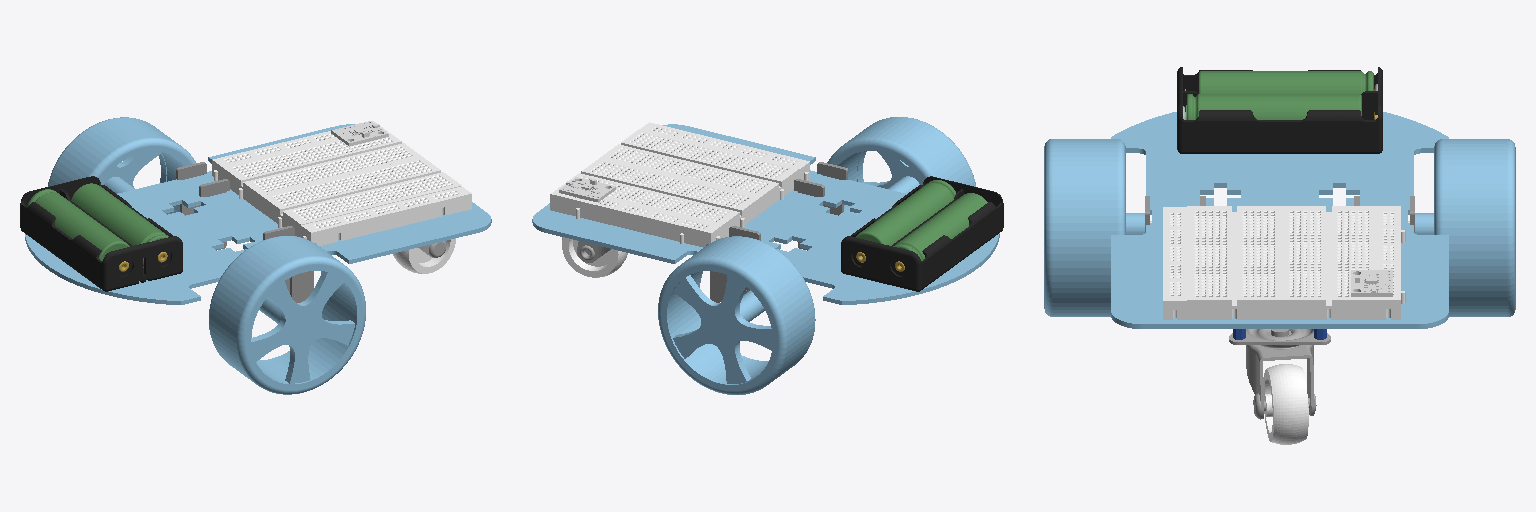
The robot description file, URDF, robot "bot":
<?xml version="1.0" ?>
<!-- Generated using onshape-to-robot -->
<!-- Onshape https://cad.onshape.com/documents/292c33a7f0f854a3cdb21f44/w/3cfe75fb330dfc627e8355b6/e/a29efea0b989aa0e985d95df -->
<robot name="bot">
  <!-- Link chassis -->
  <link name="base_link"/>
  <joint name="base_joint" type="fixed">
    <parent link="base_link"/>
    <child link="chassis"/>
  </joint>
<link name="chassis">
    <inertial>
      <origin xyz="0.0129417 0.000124462 -0.00104202" rpy="0 0 0"/>
      <mass value="0.339243"/>
      <inertia ixx="0.00034847" ixy="1.51262e-07" ixz="9.45548e-05" iyy="0.00106249" iyz="-4.20985e-07" izz="0.0013292"/>
    </inertial>
    <!-- Part spacer -->
    <visual>
      <origin xyz="0.136796 -0.0357567 -0.00100069" rpy="0 -0 0"/>
      <geometry>
        <mesh filename="package://bot_description/meshes/spacer.stl"/>
      </geometry>
      <material name="spacer_material">
        <color rgba="0.231373 0.380392 0.705882 1"/>
      </material>
    </visual>
    <!-- Part mpu6050 -->
    <visual>
      <origin xyz="0.0979786 0.033993 0.0089771" rpy="0 -0 -3.14159"/>
      <geometry>
        <mesh filename="package://bot_description/meshes/mpu6050.stl"/>
      </geometry>
      <material name="mpu6050_material">
        <color rgba="0.921569 0.921569 0.921569 1"/>
      </material>
    </visual>
    <!-- Part tt_motor_3777_v10 -->
    <visual>
      <origin xyz="-0.00036815 0.0387736 -0.0135492" rpy="3.14159 1.5708 0"/>
      <geometry>
        <mesh filename="package://bot_description/meshes/tt_motor_3777_v10.stl"/>
      </geometry>
      <material name="tt_motor_3777_v10_material">
        <color rgba="1 0.976471 0.521569 1"/>
      </material>
    </visual>
    <!-- Part spacer_2 -->
    <visual>
      <origin xyz="0.136796 -0.00575673 -0.00100069" rpy="0 -0 0"/>
      <geometry>
        <mesh filename="package://bot_description/meshes/spacer.stl"/>
      </geometry>
      <material name="spacer_2_material">
        <color rgba="0.231373 0.380392 0.705882 1"/>
      </material>
    </visual>
    <!-- Part tt_motor_3777_v10_2 -->
    <visual>
      <origin xyz="-0.00036815 -0.0388264 -0.0135492" rpy="0 -1.5708 0"/>
      <geometry>
        <mesh filename="package://bot_description/meshes/tt_motor_3777_v10__2.stl"/>
      </geometry>
      <material name="tt_motor_3777_v10_2_material">
        <color rgba="1 0.976471 0.521569 1"/>
      </material>
    </visual>
    <!-- Part tt_motor_3777_v10_3 -->
    <visual>
      <origin xyz="-0.00036815 0.0387736 -0.0135492" rpy="3.14159 1.5708 0"/>
      <geometry>
        <mesh filename="package://bot_description/meshes/tt_motor_3777_v10__3.stl"/>
      </geometry>
      <material name="tt_motor_3777_v10_3_material">
        <color rgba="0.960784 0.960784 0.964706 1"/>
      </material>
    </visual>
    <!-- Part tt_motor_3777_v10_4 -->
    <visual>
      <origin xyz="-0.00036815 0.0387736 -0.0135492" rpy="3.14159 1.5708 0"/>
      <geometry>
        <mesh filename="package://bot_description/meshes/tt_motor_3777_v10__4.stl"/>
      </geometry>
      <material name="tt_motor_3777_v10_4_material">
        <color rgba="0.960784 0.960784 0.964706 1"/>
      </material>
    </visual>
    <!-- Part chassis -->
    <visual>
      <origin xyz="-9.4875e-08 -2.63931e-05 0.000999305" rpy="0 -0 0"/>
      <geometry>
        <mesh filename="package://bot_description/meshes/chassis.stl"/>
      </geometry>
      <material name="chassis_material">
        <color rgba="0.615686 0.811765 0.929412 1"/>
      </material>
    </visual>
    <collision>
      <origin xyz="-9.4875e-08 -2.63931e-05 0.000999305" rpy="0 0 0"/>
      <geometry>
        <box size="0.19 0.10 0.04"/>
      </geometry>
    </collision>
    <!-- Part motor_holders -->
    <visual>
      <origin xyz="0.0429817 0.0500736 -0.0416742" rpy="-0 0 0"/>
      <geometry>
        <mesh filename="package://bot_description/meshes/motor_holders.stl"/>
      </geometry>
      <material name="motor_holders_material">
        <color rgba="0.647059 0.647059 0.647059 1"/>
      </material>
    </visual>
    <!-- Part tt_motor_3777_v10_5 -->
    <visual>
      <origin xyz="-0.00036815 -0.0388264 -0.0135492" rpy="0 -1.5708 0"/>
      <geometry>
        <mesh filename="package://bot_description/meshes/tt_motor_3777_v10__4.stl"/>
      </geometry>
      <material name="tt_motor_3777_v10_5_material">
        <color rgba="0.960784 0.960784 0.964706 1"/>
      </material>
    </visual>
    <!-- Part motor_holders_2 -->
    <visual>
      <origin xyz="0.0429817 -0.0275264 -0.0416742" rpy="0 -0 0"/>
      <geometry>
        <mesh filename="package://bot_description/meshes/motor_holders.stl"/>
      </geometry>
      <material name="motor_holders_2_material">
        <color rgba="0.647059 0.647059 0.647059 1"/>
      </material>
    </visual>
    <!-- Part motor_holders_3 -->
    <visual>
      <origin xyz="0.0429817 0.0294736 -0.0416742" rpy="0 -0 0"/>
      <geometry>
        <mesh filename="package://bot_description/meshes/motor_holders.stl"/>
      </geometry>
      <material name="motor_holders_3_material">
        <color rgba="0.647059 0.647059 0.647059 1"/>
      </material>
    </visual>
    <!-- Part tt_motor_3777_v10_6 -->
    <visual>
      <origin xyz="-0.00036815 -0.0388264 -0.0135492" rpy="0 -1.5708 0"/>
      <geometry>
        <mesh filename="package://bot_description/meshes/tt_motor_3777_v10__5.stl"/>
      </geometry>
      <material name="tt_motor_3777_v10_6_material">
        <color rgba="0.627451 0.627451 0.627451 1"/>
      </material>
    </visual>
    <!-- Part tt_motor_3777_v10_7 -->
    <visual>
      <origin xyz="-0.00036815 -0.0388264 -0.0135492" rpy="0 -1.5708 0"/>
      <geometry>
        <mesh filename="package://bot_description/meshes/tt_motor_3777_v10__3.stl"/>
      </geometry>
      <material name="tt_motor_3777_v10_7_material">
        <color rgba="0.960784 0.960784 0.964706 1"/>
      </material>
    </visual>
    <!-- Part tt_motor_3777_v10_8 -->
    <visual>
      <origin xyz="-0.00036815 0.0387736 -0.0135492" rpy="3.14159 1.5708 0"/>
      <geometry>
        <mesh filename="package://bot_description/meshes/tt_motor_3777_v10__2.stl"/>
      </geometry>
      <material name="tt_motor_3777_v10_8_material">
        <color rgba="1 0.976471 0.521569 1"/>
      </material>
    </visual>
    <!-- Part caster_40mm_swivel_plate_01 -->
    <visual>
      <origin xyz="0.0812499 -2.63931e-05 -0.0322507" rpy="0 -0 -1.5708"/>
      <geometry>
        <mesh filename="package://bot_description/meshes/caster_40mm_swivel_plate_01.stl"/>
      </geometry>
      <material name="caster_40mm_swivel_plate_01_material">
        <color rgba="0.705882 0.705882 0.705882 1"/>
      </material>
    </visual>
    <!-- Part tt_motor_3777_v10_9 -->
    <visual>
      <origin xyz="-0.00036815 0.0387736 -0.0135492" rpy="3.14159 1.5708 0"/>
      <geometry>
        <mesh filename="package://bot_description/meshes/tt_motor_3777_v10__6.stl"/>
      </geometry>
      <material name="tt_motor_3777_v10_9_material">
        <color rgba="0.0980392 0.0980392 0.0980392 1"/>
      </material>
    </visual>
    <!-- Part motor_holders_4 -->
    <visual>
      <origin xyz="0.0429817 -0.0481264 -0.0416742" rpy="-0 -0 0"/>
      <geometry>
        <mesh filename="package://bot_description/meshes/motor_holders.stl"/>
      </geometry>
      <material name="motor_holders_4_material">
        <color rgba="0.647059 0.647059 0.647059 1"/>
      </material>
    </visual>
    <!-- Part tt_motor_3777_v10_10 -->
    <visual>
      <origin xyz="-0.00036815 0.0387736 -0.0135492" rpy="3.14159 1.5708 0"/>
      <geometry>
        <mesh filename="package://bot_description/meshes/tt_motor_3777_v10__7.stl"/>
      </geometry>
      <material name="tt_motor_3777_v10_10_material">
        <color rgba="0.627451 0.627451 0.627451 1"/>
      </material>
    </visual>
    <!-- Part tt_motor_3777_v10_11 -->
    <visual>
      <origin xyz="-0.00036815 0.0387736 -0.0135492" rpy="3.14159 1.5708 0"/>
      <geometry>
        <mesh filename="package://bot_description/meshes/tt_motor_3777_v10__5.stl"/>
      </geometry>
      <material name="tt_motor_3777_v10_11_material">
        <color rgba="0.627451 0.627451 0.627451 1"/>
      </material>
    </visual>
    <!-- Part spacer_3 -->
    <visual>
      <origin xyz="0.112796 -0.0357567 -0.00100069" rpy="0 -0 0"/>
      <geometry>
        <mesh filename="package://bot_description/meshes/spacer.stl"/>
      </geometry>
      <material name="spacer_3_material">
        <color rgba="0.231373 0.380392 0.705882 1"/>
      </material>
    </visual>
    <!-- Part tt_motor_3777_v10_12 -->
    <visual>
      <origin xyz="-0.00036815 -0.0388264 -0.0135492" rpy="0 -1.5708 0"/>
      <geometry>
        <mesh filename="package://bot_description/meshes/tt_motor_3777_v10.stl"/>
      </geometry>
      <material name="tt_motor_3777_v10_12_material">
        <color rgba="1 0.976471 0.521569 1"/>
      </material>
    </visual>
    <!-- Part tt_motor_3777_v10_13 -->
    <visual>
      <origin xyz="-0.00036815 -0.0388264 -0.0135492" rpy="0 -1.5708 0"/>
      <geometry>
        <mesh filename="package://bot_description/meshes/tt_motor_3777_v10__7.stl"/>
      </geometry>
      <material name="tt_motor_3777_v10_13_material">
        <color rgba="0.627451 0.627451 0.627451 1"/>
      </material>
    </visual>
    <!-- Part tt_motor_3777_v10_14 -->
    <visual>
      <origin xyz="-0.00036815 -0.0388264 -0.0135492" rpy="0 -1.5708 0"/>
      <geometry>
        <mesh filename="package://bot_description/meshes/tt_motor_3777_v10__6.stl"/>
      </geometry>
      <material name="tt_motor_3777_v10_14_material">
        <color rgba="0.0980392 0.0980392 0.0980392 1"/>
      </material>
    </visual>
    <!-- Part spacer_4 -->
    <visual>
      <origin xyz="0.112796 -0.00575673 -0.00100069" rpy="0 -0 0"/>
      <geometry>
        <mesh filename="package://bot_description/meshes/spacer.stl"/>
      </geometry>
      <material name="spacer_4_material">
        <color rgba="0.231373 0.380392 0.705882 1"/>
      </material>
    </visual>
    <!-- Part main_half_size_board -->
    <visual>
      <origin xyz="0.11075 0.0356236 0.000999305" rpy="1.5708 0 -1.5708"/>
      <geometry>
        <mesh filename="package://bot_description/meshes/main_half_size_board.stl"/>
      </geometry>
      <material name="main_half_size_board_material">
        <color rgba="1 1 1 1"/>
      </material>
    </visual>
    <!-- Part half_size_side_rail -->
    <visual>
      <origin xyz="0.0282799 -0.0432849 0.000635827" rpy="0 0 0"/>
      <geometry>
        <mesh filename="package://bot_description/meshes/half_size_side_rail.stl"/>
      </geometry>
      <material name="half_size_side_rail_material">
        <color rgba="1 1 1 1"/>
      </material>
    </visual>
    <!-- Part half_size_side_rail_2 -->
    <visual>
      <origin xyz="0.0282499 0.0356236 0.000999305" rpy="0 0 0"/>
      <geometry>
        <mesh filename="package://bot_description/meshes/half_size_side_rail.stl"/>
      </geometry>
      <material name="half_size_side_rail_2_material">
        <color rgba="1 1 1 1"/>
      </material>
    </visual>
    <!-- Part main_half_size_board_2 -->
    <visual>
      <origin xyz="0.110804 0.000622607 0.000989475" rpy="1.5708 0 -1.5708"/>
      <geometry>
        <mesh filename="package://bot_description/meshes/main_half_size_board.stl"/>
      </geometry>
      <material name="main_half_size_board_2_material">
        <color rgba="1 1 1 1"/>
      </material>
    </visual>
    <!-- Part remache_v1_0 -->
    <visual>
      <origin xyz="-0.0441788 -0.0360268 0.0110493" rpy="-0.6866 -0 1.5708"/>
      <geometry>
        <mesh filename="package://bot_description/meshes/remache_v1_0.stl"/>
      </geometry>
      <material name="remache_v1_0_material">
        <color rgba="0.8 0.666667 0.321569 1"/>
      </material>
    </visual>
    <!-- Part remache_v1_0_2 -->
    <visual>
      <origin xyz="-0.0640288 -0.0360268 0.0110493" rpy="-0.6866 -0 1.5708"/>
      <geometry>
        <mesh filename="package://bot_description/meshes/remache_v1_0.stl"/>
      </geometry>
      <material name="remache_v1_0_2_material">
        <color rgba="0.8 0.666667 0.321569 1"/>
      </material>
    </visual>
    <!-- Part contacto_plano_v1_0 -->
    <visual>
      <origin xyz="-0.0441788 -0.0360768 0.0110493" rpy="1.5708 -0.567108 -3.14159"/>
      <geometry>
        <mesh filename="package://bot_description/meshes/contacto_plano_v1_0.stl"/>
      </geometry>
      <material name="contacto_plano_v1_0_material">
        <color rgba="0.741176 0.776471 0.8 1"/>
      </material>
    </visual>
    <!-- Part porta_baterias_2x18650 -->
    <visual>
      <origin xyz="-0.0541038 2.31881e-05 0.000599305" rpy="0 -0 -1.5708"/>
      <geometry>
        <mesh filename="package://bot_description/meshes/porta_baterias_2x18650.stl"/>
      </geometry>
      <material name="porta_baterias_2x18650_material">
        <color rgba="0.2 0.2 0.2 1"/>
      </material>
    </visual>
    <!-- Part contacto_helice_v2_0 -->
    <visual>
      <origin xyz="-0.0640288 -0.0357268 0.0110493" rpy="-1.5708 -0.391796 0"/>
      <geometry>
        <mesh filename="package://bot_description/meshes/contacto_helice_v2_0.stl"/>
      </geometry>
      <material name="contacto_helice_v2_0_material">
        <color rgba="0.741176 0.776471 0.8 1"/>
      </material>
    </visual>
    <!-- Part contacto_plano_v1_0_2 -->
    <visual>
      <origin xyz="-0.0640288 0.0361232 0.0110493" rpy="-1.5708 -0.611892 -3.14159"/>
      <geometry>
        <mesh filename="package://bot_description/meshes/contacto_plano_v1_0.stl"/>
      </geometry>
      <material name="contacto_plano_v1_0_2_material">
        <color rgba="0.741176 0.776471 0.8 1"/>
      </material>
    </visual>
    <!-- Part bateria_18650 -->
    <visual>
      <origin xyz="-0.0640288 -0.0301768 0.0110493" rpy="-1.5708 0.448272 -0"/>
      <geometry>
        <mesh filename="package://bot_description/meshes/bateria_18650.stl"/>
      </geometry>
      <material name="bateria_18650_material">
        <color rgba="0.392157 0.6 0.392157 1"/>
      </material>
    </visual>
    <!-- Part remache_v1_0_3 -->
    <visual>
      <origin xyz="-0.0640288 0.0360732 0.0110493" rpy="-0.6866 0 1.5708"/>
      <geometry>
        <mesh filename="package://bot_description/meshes/remache_v1_0.stl"/>
      </geometry>
      <material name="remache_v1_0_3_material">
        <color rgba="0.8 0.666667 0.321569 1"/>
      </material>
    </visual>
    <!-- Part bateria_18650_2 -->
    <visual>
      <origin xyz="-0.0441788 0.0302232 0.0110493" rpy="-1.5708 -1.11651 -3.14159"/>
      <geometry>
        <mesh filename="package://bot_description/meshes/bateria_18650.stl"/>
      </geometry>
      <material name="bateria_18650_2_material">
        <color rgba="0.392157 0.6 0.392157 1"/>
      </material>
    </visual>
    <!-- Part contacto_helice_v2_0_2 -->
    <visual>
      <origin xyz="-0.0441788 0.0357732 0.0110493" rpy="1.5708 1.5708 0"/>
      <geometry>
        <mesh filename="package://bot_description/meshes/contacto_helice_v2_0.stl"/>
      </geometry>
      <material name="contacto_helice_v2_0_2_material">
        <color rgba="0.741176 0.776471 0.8 1"/>
      </material>
    </visual>
    <!-- Part remache_v1_0_4 -->
    <visual>
      <origin xyz="-0.0441788 0.0360732 0.0110493" rpy="-0.6866 -0 1.5708"/>
      <geometry>
        <mesh filename="package://bot_description/meshes/remache_v1_0.stl"/>
      </geometry>
      <material name="remache_v1_0_4_material">
        <color rgba="0.8 0.666667 0.321569 1"/>
      </material>
    </visual>
  </link>
  <!-- Frame imu_link (dummy link + fixed joint) -->
  <link name="imu_link">
    <origin xyz="0 0 0" rpy="0 -0 0"/>
    <inertial>
      <origin xyz="0 0 0" rpy="0 0 0"/>
      <mass value="1e-9"/>
      <inertia ixx="0" ixy="0" ixz="0" iyy="0" iyz="0" izz="0"/>
    </inertial>
  </link>
  <joint name="imu_link_frame" type="fixed">
    <origin xyz="0.0979786 0.033993 0.0089771" rpy="0 -0 0"/>
    <parent link="chassis"/>
    <child link="imu_link"/>
    <axis xyz="0 0 0"/>
  </joint>
  <!-- Link wheel -->
  <link name="wheel">
    <inertial>
      <origin xyz="0.000233615 -1.15321e-07 -0.0320156" rpy="0 0 0"/>
      <mass value="0.0449149"/>
      <inertia ixx="2.33428e-05" ixy="-7.5e-11" ixz="2.4132e-08" iyy="2.3342e-05" iyz="-4.4e-11" izz="3.25125e-05"/>
    </inertial>
    <!-- Part tt_motor_3777_v10_15 -->
    <visual>
      <origin xyz="0 -0 0" rpy="1.5708 -0 0"/>
      <geometry>
        <mesh filename="package://bot_description/meshes/tt_motor_3777_v10__8.stl"/>
      </geometry>
      <material name="tt_motor_3777_v10_15_material">
        <color rgba="0.964706 0.964706 0.952941 1"/>
      </material>
    </visual>
    <!-- Part wheel -->
    <visual>
      <origin xyz="0.00025 -0 -0.0484" rpy="1.5708 0 -1.5708"/>
      <geometry>
        <mesh filename="package://bot_description/meshes/wheel.stl"/>
      </geometry>
      <material name="wheel_material">
        <color rgba="0.615686 0.811765 0.929412 1"/>
      </material>
    </visual>
    <collision>
      <origin xyz="0.00025 -0 -0.0334" rpy="0 0 1.5708"/>
      <geometry>
        <cylinder radius="0.033" length="0.04"/>
      </geometry>
    </collision>
  </link>
  <!-- Joint from chassis to wheel -->
  <joint name="right_wheel" type="continuous">
    <origin xyz="-0.00036815 -0.0387764 -0.0135492" rpy="1.5708 -0.995712 -3.14159"/>
    <parent link="chassis"/>
    <child link="wheel"/>
    <axis xyz="0 0 1"/>
    <limit effort="10" velocity="10"/>
  </joint>
  <!-- Link wheel_2 -->
  <link name="wheel_2">
    <inertial>
      <origin xyz="-0.000233615 -1.15321e-07 0.0320156" rpy="0 0 0"/>
      <mass value="0.0449149"/>
      <inertia ixx="2.33428e-05" ixy="7.5e-11" ixz="2.4132e-08" iyy="2.3342e-05" iyz="4.4e-11" izz="3.25125e-05"/>
    </inertial>
    <!-- Part wheel_2 -->
    <visual>
      <origin xyz="-0.00025 -0 0.0484" rpy="-1.5708 -0 -1.5708"/>
      <geometry>
        <mesh filename="package://bot_description/meshes/wheel.stl"/>
      </geometry>
      <material name="wheel_2_material">
        <color rgba="0.615686 0.811765 0.929412 1"/>
      </material>
    </visual>
    <collision>
      <origin xyz="-0.00025 -0 0.0334" rpy="0 0 1.5708"/>
      <geometry>
        <cylinder radius="0.033" length="0.04"/>
      </geometry>
    </collision>
    <!-- Part tt_motor_3777_v10_16 -->
    <visual>
      <origin xyz="0 0 0" rpy="1.5708 -0 0"/>
      <geometry>
        <mesh filename="package://bot_description/meshes/tt_motor_3777_v10__8.stl"/>
      </geometry>
      <material name="tt_motor_3777_v10_16_material">
        <color rgba="0.964706 0.964706 0.952941 1"/>
      </material>
    </visual>
  </link>
  <!-- Joint from chassis to wheel_2 -->
  <joint name="left_wheel" type="continuous">
    <origin xyz="-0.00036815 0.0387236 -0.0135492" rpy="-1.5708 0 0"/>
    <parent link="chassis"/>
    <child link="wheel_2"/>
    <axis xyz="0 0 1"/>
    <limit effort="10" velocity="10"/>
  </joint>
  <!-- Link caster_40mm_wheel_support_01 -->
  <link name="caster_40mm_wheel_support_01">
    <inertial>
      <origin xyz="-0.000469757 -0.00666336 -0.0085057" rpy="0 0 0"/>
      <mass value="0.0177347"/>
      <inertia ixx="2.35477e-06" ixy="-7.3611e-08" ixz="-9.5747e-08" iyy="2.30168e-06" iyz="-7.22818e-07" izz="2.54646e-06"/>
    </inertial>
    <!-- Part caster_40mm_wheel_support_01 -->
    <visual>
      <origin xyz="-0 -0.0155 -0.02" rpy="-0 -0 0"/>
      <geometry>
        <mesh filename="package://bot_description/meshes/caster_40mm_wheel_support_01.stl"/>
      </geometry>
      <material name="caster_40mm_wheel_support_01_material">
        <color rgba="0.705882 0.705882 0.705882 1"/>
      </material>
    </visual>
    <collision>
      <origin xyz="-0 -0.0155 -0.02" rpy="0 0 0"/>
      <geometry>
        <box size="0.04 0.04 0.02"/>
      </geometry>
    </collision>
  </link>
  <!-- Link caster_40mm_wheel_30mm_01 -->
  <link name="caster_40mm_wheel_30mm_01">
    <inertial>
      <origin xyz="0 0 0" rpy="0 0 0"/>
      <mass value="0.007"/>
      <inertia ixx="5.2943e-07" ixy="-0" ixz="-0" iyy="5.2943e-07" iyz="-0" izz="8.93552e-07"/>
    </inertial>
    <!-- Part caster_40mm_wheel_30mm_01 -->
    <visual>
      <origin xyz="0 0 0" rpy="-1.5708 -1.5708 0"/>
      <geometry>
        <mesh filename="package://bot_description/meshes/caster_40mm_wheel_30mm_01.stl"/>
      </geometry>
      <material name="caster_40mm_wheel_30mm_01_material">
        <color rgba="1 1 1 1"/>
      </material>
    </visual>
    <collision>
      <origin xyz="0 0 0" rpy="0 0 0"/>
      <geometry>
        <sphere radius="0.015"/>
      </geometry>
    </collision>
  </link>
  <!-- Joint from caster_40mm_wheel_support_01 to caster_40mm_wheel_30mm_01 -->
  <joint name="caster_wheel" type="continuous">
    <origin xyz="-0 -0.0155 -0.02" rpy="1.5708 -0 1.5708"/>
    <parent link="caster_40mm_wheel_support_01"/>
    <child link="caster_40mm_wheel_30mm_01"/>
    <axis xyz="0 0 1"/>
    <limit effort="10" velocity="10"/>
  </joint>
  <!-- Joint from chassis to caster_40mm_wheel_support_01 -->
  <joint name="caster_swivel" type="revolute">
    <origin xyz="0.0967499 -2.63931e-05 -0.0129007" rpy="-0 0 1.71597"/>
    <parent link="chassis"/>
    <child link="caster_40mm_wheel_support_01"/>
    <axis xyz="0 0 1"/>
    <dynamics damping="0.01" friction="0.002"/>
    <limit effort="10" velocity="10" lower="-3.141592653589793" upper="3.141592653589793"/>
  </joint>
</robot>

--- What the picture shows (computed from the rendered views, not written in the file) ---
Views: 3 orthographic renders of the robot side by side, from view 1: azimuth 30°, elevation 25°; view 2: azimuth 150°, elevation 25°; view 3: azimuth 270°, elevation 25°.
Model bot with 7 links and 6 joints (1 revolute, 3 continuous, 2 fixed), rooted at base_link, posed every joint at zero.
Visible links, largest first — view 1: chassis, wheel, wheel_2, caster_40mm_wheel_30mm_01; view 2: chassis, wheel_2, wheel, caster_40mm_wheel_30mm_01; view 3: chassis, wheel_2, wheel, caster_40mm_wheel_30mm_01, caster_40mm_wheel_support_01.
Boxes of the visible links, x1,y1,x2,y2 form: chassis: [20, 121, 491, 304]; wheel: [209, 236, 365, 394]; wheel_2: [48, 117, 195, 214]; caster_40mm_wheel_30mm_01: [393, 238, 455, 273]; chassis: [532, 122, 1003, 304]; wheel_2: [658, 236, 815, 394]; wheel: [827, 117, 975, 214]; caster_40mm_wheel_30mm_01: [562, 237, 627, 277]; chassis: [1111, 67, 1448, 347]; wheel_2: [1408, 139, 1515, 316]; wheel: [1044, 139, 1151, 316]; caster_40mm_wheel_30mm_01: [1264, 364, 1308, 444]; caster_40mm_wheel_support_01: [1246, 345, 1316, 419].
Bounding box of the posed robot: 0.209 × 0.1743 × 0.068 m (x, y, z).
30 mesh visuals loaded from 23 distinct referenced files (15 binary STL); not drawn: 16 (reference not matched to a file when rendering).
